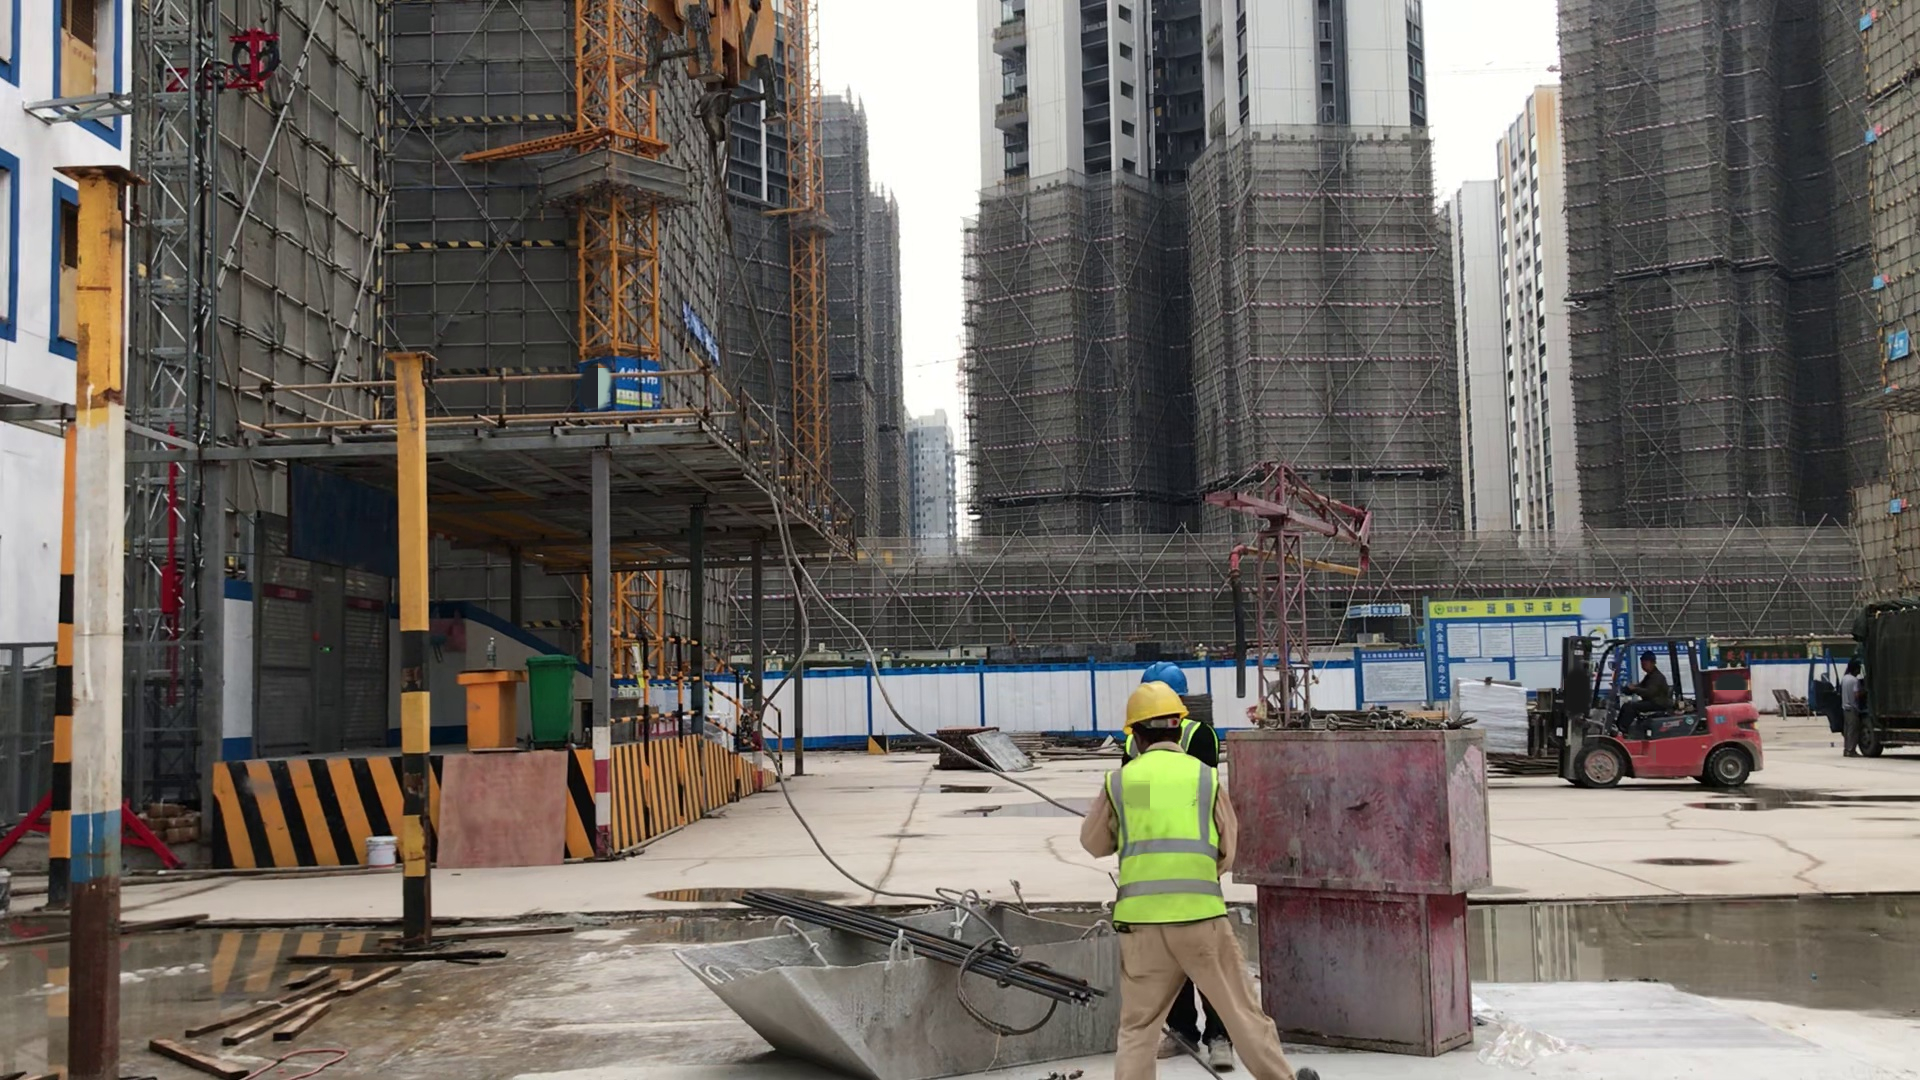board: (969, 730, 1045, 776)
brick: (1446, 677, 1542, 766)
fence: (598, 614, 810, 780)
helmet: (1113, 676, 1198, 733), (1131, 649, 1208, 688), (1635, 646, 1661, 665)
hopper: (667, 878, 1183, 1080)
person: (1078, 683, 1321, 1080), (1127, 638, 1250, 796), (1619, 643, 1696, 743), (1828, 651, 1882, 758)
rebar: (737, 885, 1107, 1038)
slogan: (1419, 582, 1614, 695), (572, 346, 665, 441), (1345, 638, 1445, 707), (672, 301, 727, 361), (1348, 596, 1417, 631)
vest: (1107, 747, 1249, 939), (1121, 714, 1208, 756)
